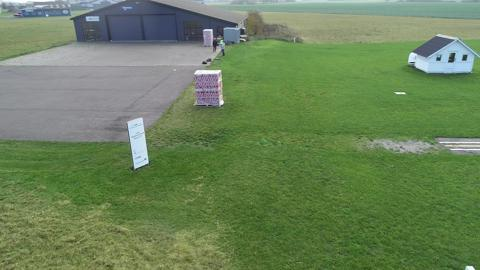RockwoolPallet: (203, 28, 215, 47)
